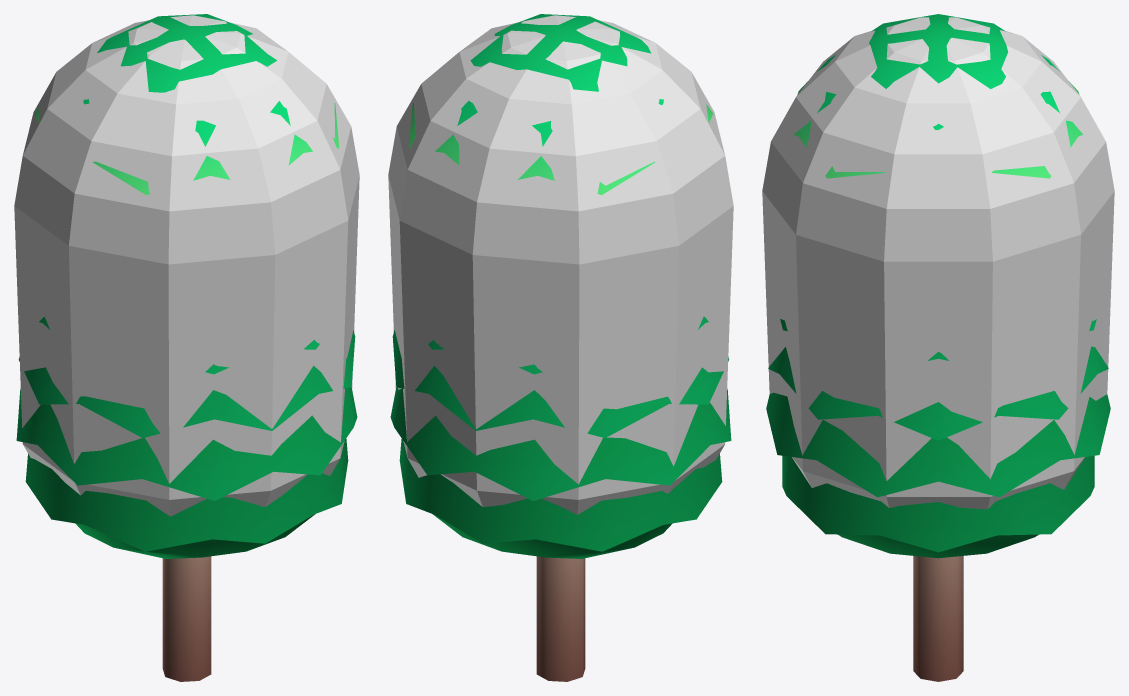
Rendered from Asset_TreeCapsule.glb.
The picture shows the model from 3 angles, left to right: view 1: azimuth 30°, elevation 25°; view 2: azimuth 150°, elevation 25°; view 3: azimuth 270°, elevation 25°; orthographic projection.
Visible parts, largest first — view 1: Collsion, Mesh.011; view 2: Collsion, Mesh.011; view 3: Collsion, Mesh.011.
Part boxes in pixels (<box>): Collsion: <box>14,15,359,516</box>; Mesh.011: <box>16,14,357,681</box>; Collsion: <box>388,15,733,514</box>; Mesh.011: <box>390,14,731,681</box>; Collsion: <box>762,17,1114,509</box>; Mesh.011: <box>766,14,1110,681</box>.
Size of what is drawn, in the model's own units: 1.65 by 3.39 by 1.69.
1 material, 1 textured.
